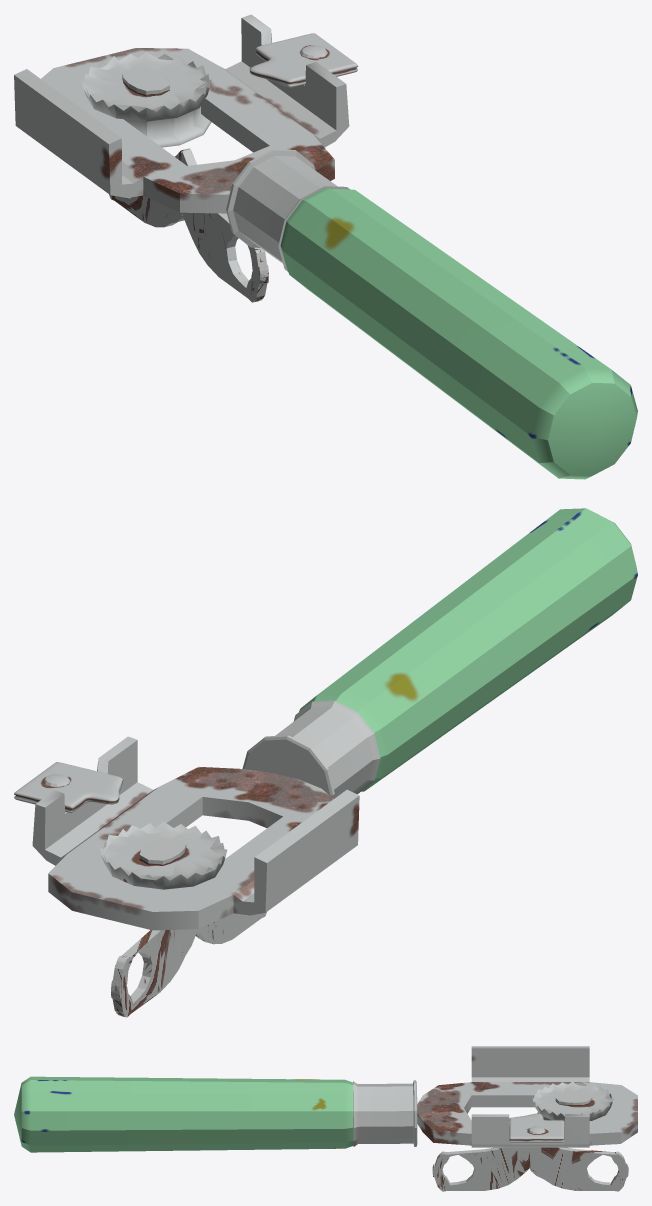
The model's file is can_opener.fbx.
The picture shows the model from 3 angles, top to bottom: view 1: azimuth 30°, elevation 25°; view 2: azimuth 150°, elevation 25°; view 3: azimuth 270°, elevation 25°; orthographic projection. The views are drawn at different scales.
Visible parts, largest first — view 1: pCylinder8, pCube1, pCylinder2, pCylinder7, pCube4, pCube2, pCylinder3; view 2: pCylinder8, pCube1, pCylinder7, pCylinder2, pCube4, pCube2, pCylinder3; view 3: pCylinder8, pCube1, pCube4, pCylinder7, pCylinder2, pCube2, pCylinder3.
Boxes of the visible parts, <box> form: pCylinder8: <box>280,188,637,479</box>; pCube1: <box>14,14,349,213</box>; pCylinder2: <box>81,52,211,147</box>; pCylinder7: <box>226,149,349,271</box>; pCube4: <box>109,148,268,302</box>; pCube2: <box>249,33,358,87</box>; pCylinder3: <box>122,67,169,96</box>; pCylinder8: <box>299,508,637,791</box>; pCube1: <box>32,736,359,930</box>; pCylinder7: <box>242,700,380,798</box>; pCylinder2: <box>100,822,227,889</box>; pCube4: <box>111,912,266,1017</box>; pCube2: <box>14,762,123,812</box>; pCylinder3: <box>139,838,186,865</box>; pCylinder8: <box>14,1076,353,1152</box>; pCube1: <box>417,1046,637,1147</box>; pCube4: <box>432,1147,628,1191</box>; pCylinder7: <box>353,1080,417,1146</box>; pCylinder2: <box>532,1081,613,1121</box>; pCube2: <box>509,1113,564,1142</box>; pCylinder3: <box>555,1092,592,1106</box>.
Bounding box in the file's own units: 6.35 × 3.8 × 19.63.
Materials: 8 (8 with a texture image).
